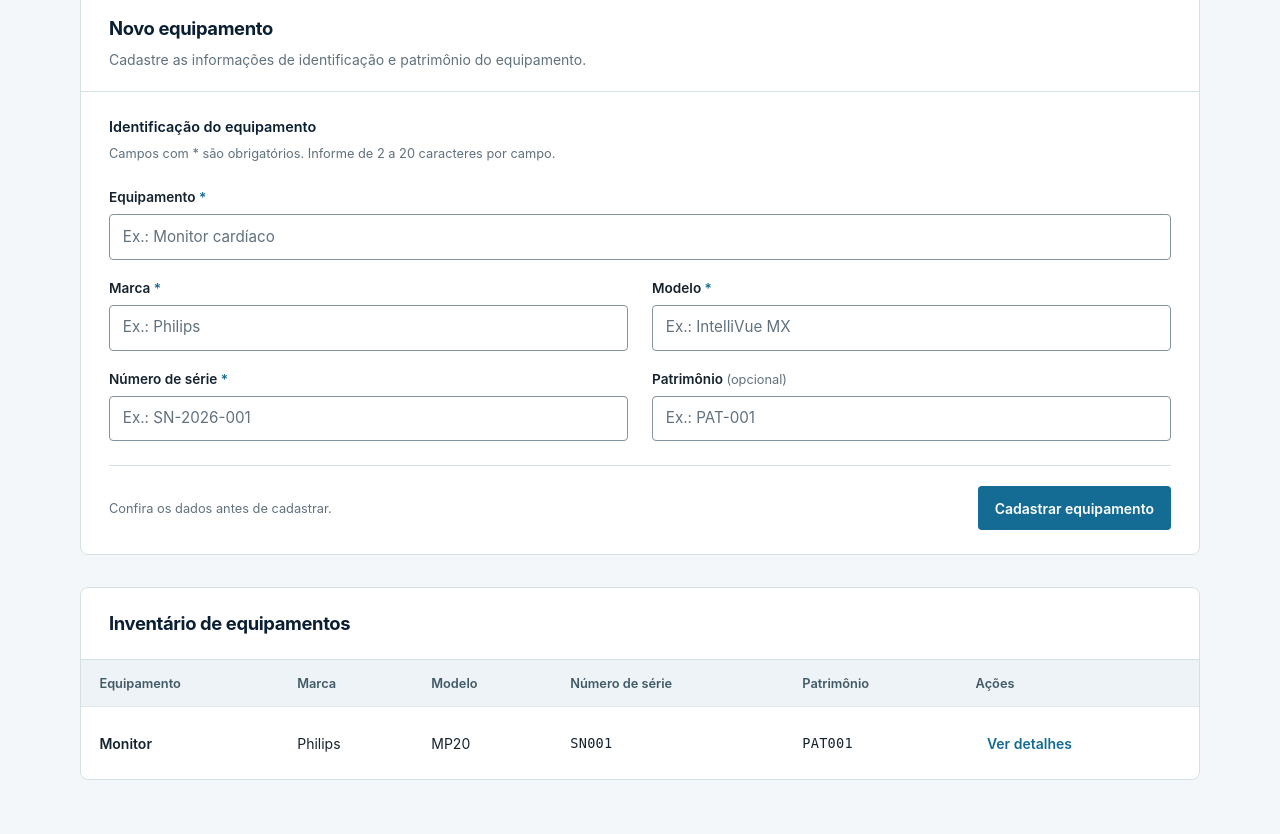
Test case: omite patrimônio apagado do payload e mostra sua remoção nos detalhes e na tabela
This screenshot has width=1280, height=834.
(page scrolled)
Step 1. Click the button with aria-label "Ver detalhes de Monitor (SN001)" → (1029, 743), box [976,721,1083,765]
(page scrolled)
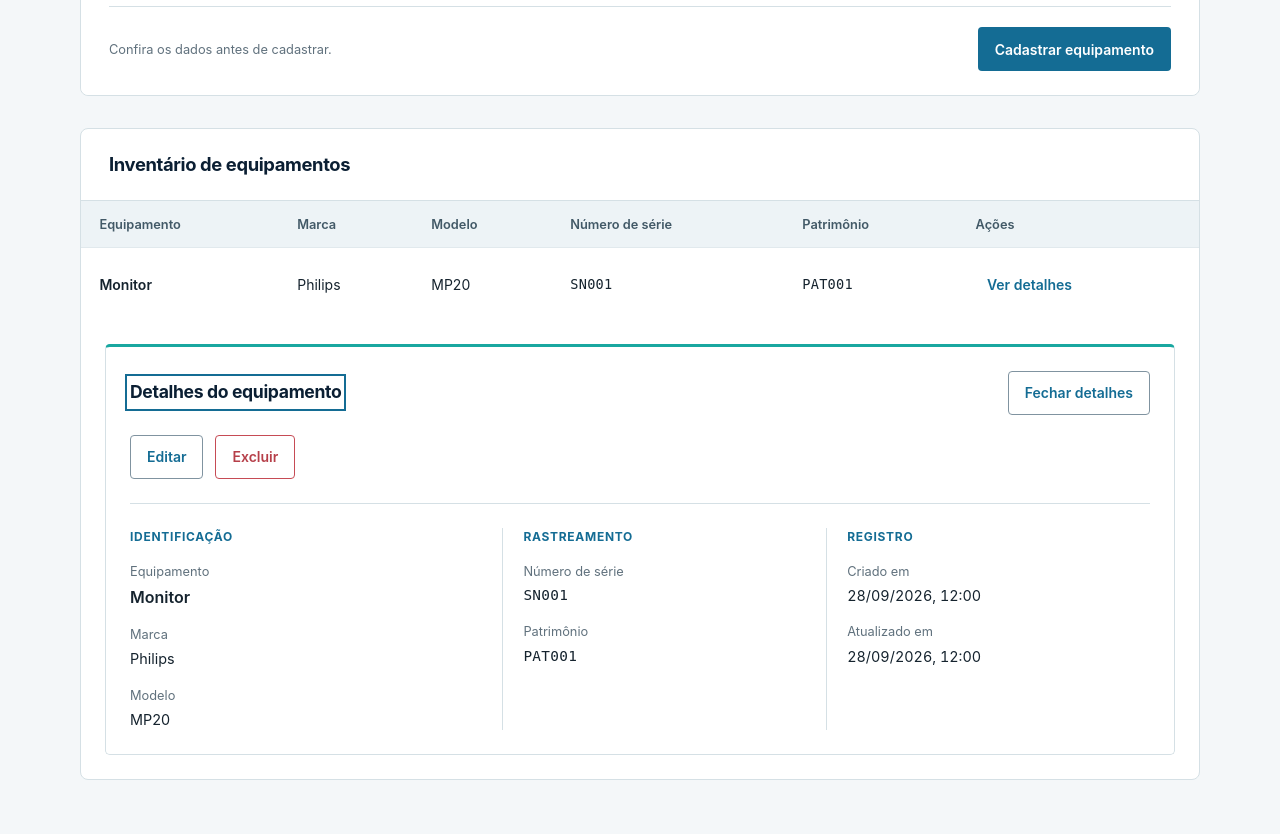
Step 2. Click the button "Editar" → (167, 457), box [130,435,204,479]
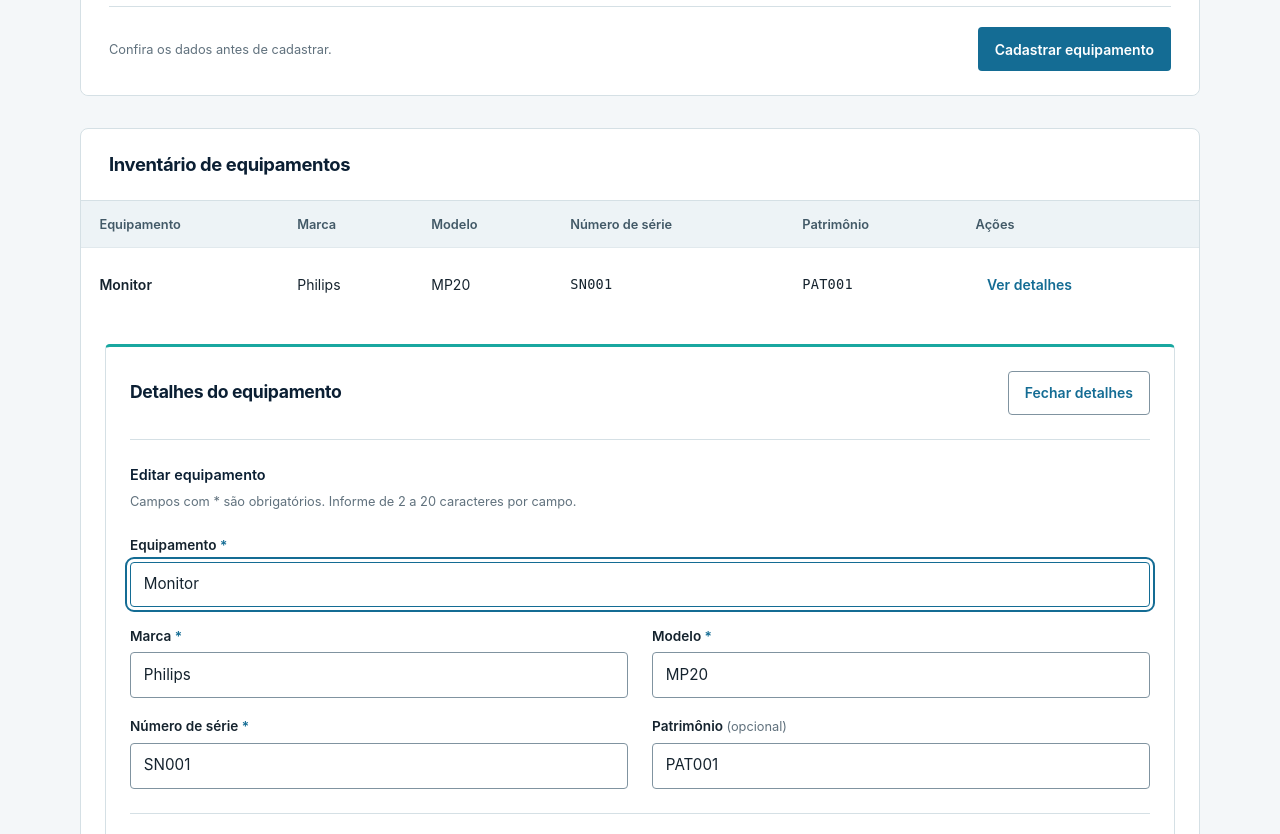
Step 3. Clear the 2nd field labelled "Patrimônio (opcional)" → (901, 766), box [652,743,1150,789]
(page scrolled)
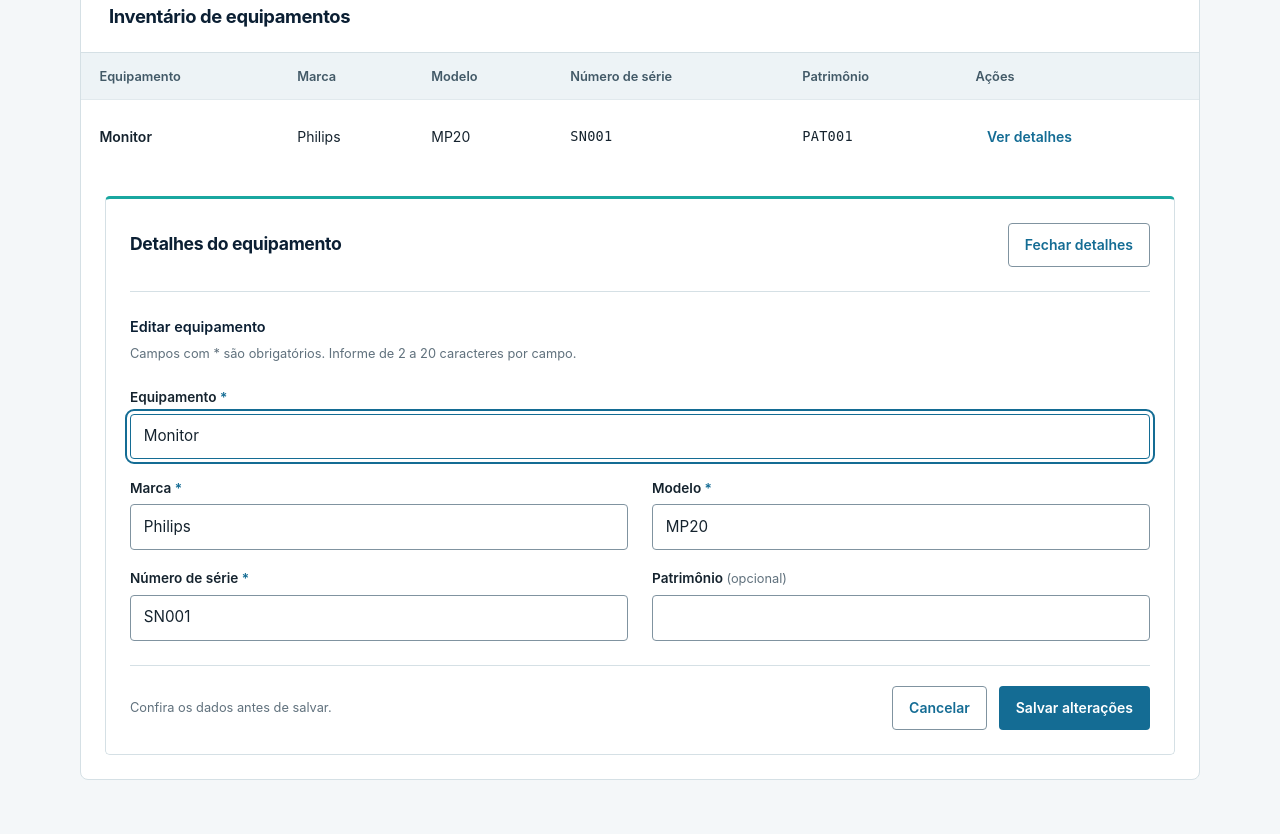
Step 4. Click the button "Salvar alterações" → (1074, 708), box [999,686,1150,730]
(page scrolled)
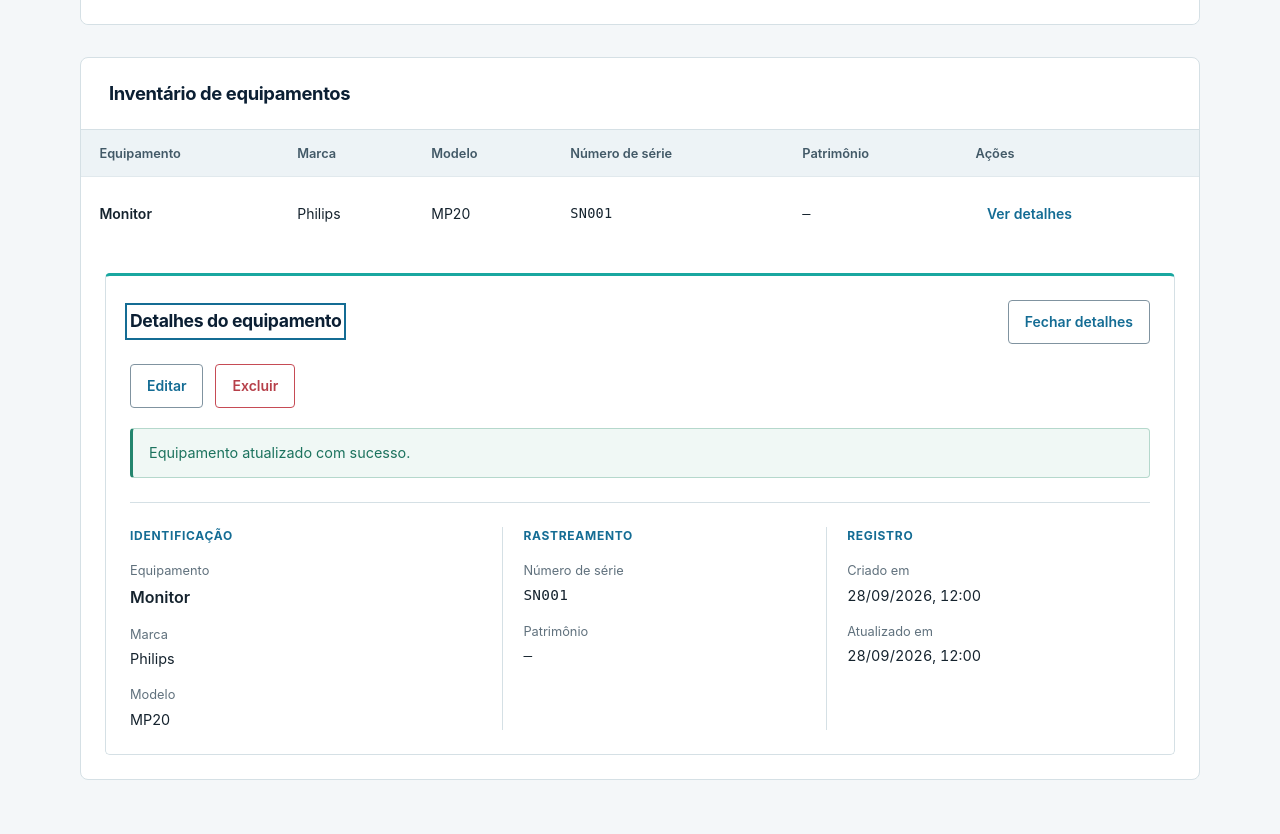
Expected: the text "—" is shown, [523,647,532,663]
Expected: the text "Equipamento atualizado com sucesso." is shown, [130,428,1150,478]
Expected: the cell "—" is shown, [784,177,957,249]
